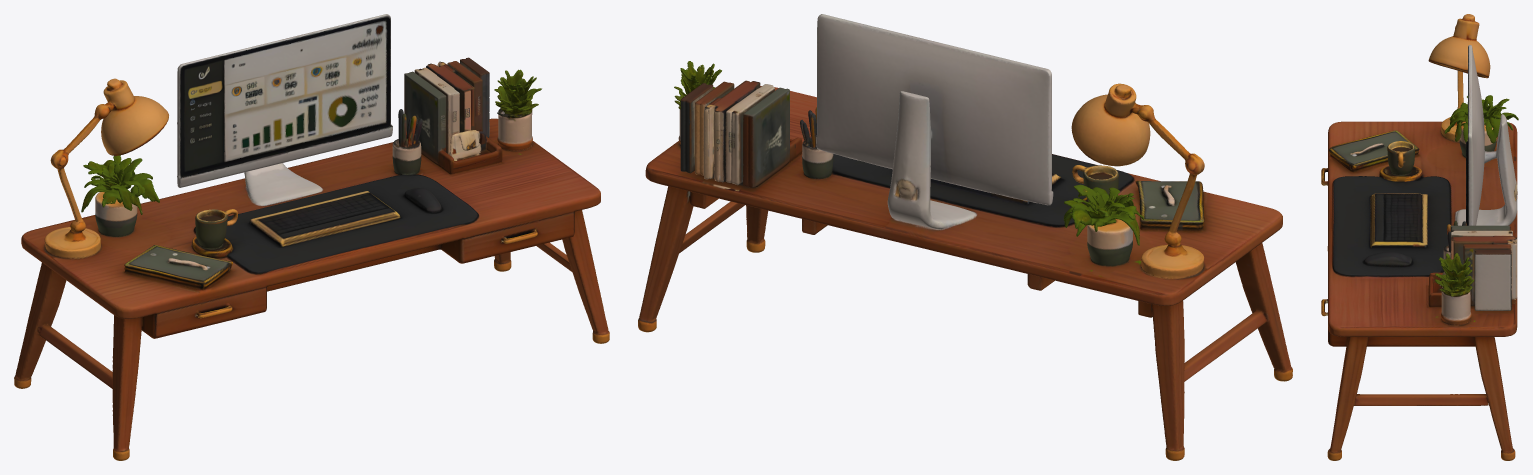
Rendered from office.glb.
3 views of the same model, side by side, from view 1: azimuth 30°, elevation 25°; view 2: azimuth 150°, elevation 25°; view 3: azimuth 270°, elevation 25° (orthographic). The views are drawn at different scales.
Visible parts, largest first — view 1: tripo_node_3d33ca78-a04f-4bce-8b96-5eb34854c834; view 2: tripo_node_3d33ca78-a04f-4bce-8b96-5eb34854c834; view 3: tripo_node_3d33ca78-a04f-4bce-8b96-5eb34854c834.
Boxes of the visible parts, x1,y1,x2,y2 form: tripo_node_3d33ca78-a04f-4bce-8b96-5eb34854c834: (14,14,609,460); tripo_node_3d33ca78-a04f-4bce-8b96-5eb34854c834: (638,14,1292,460); tripo_node_3d33ca78-a04f-4bce-8b96-5eb34854c834: (1321,14,1518,460).
Bounding box in the file's own units: 1 × 0.589 × 0.394.
1 material, 1 textured.
